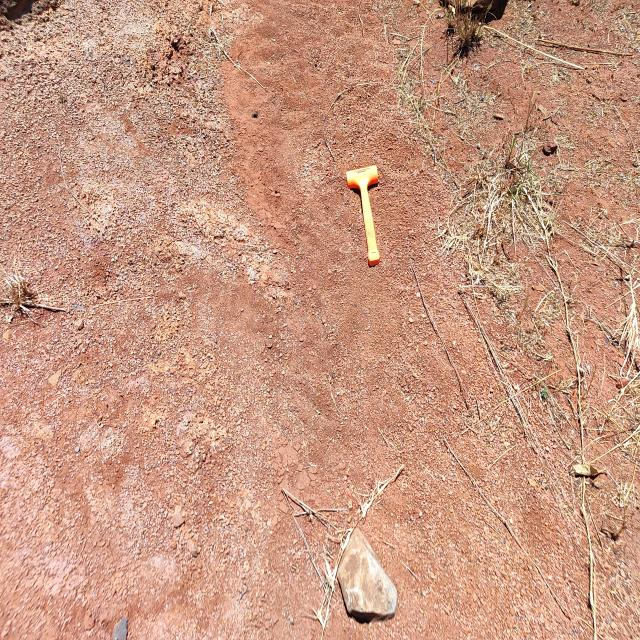Orange_hammer: (345, 164, 381, 267)
